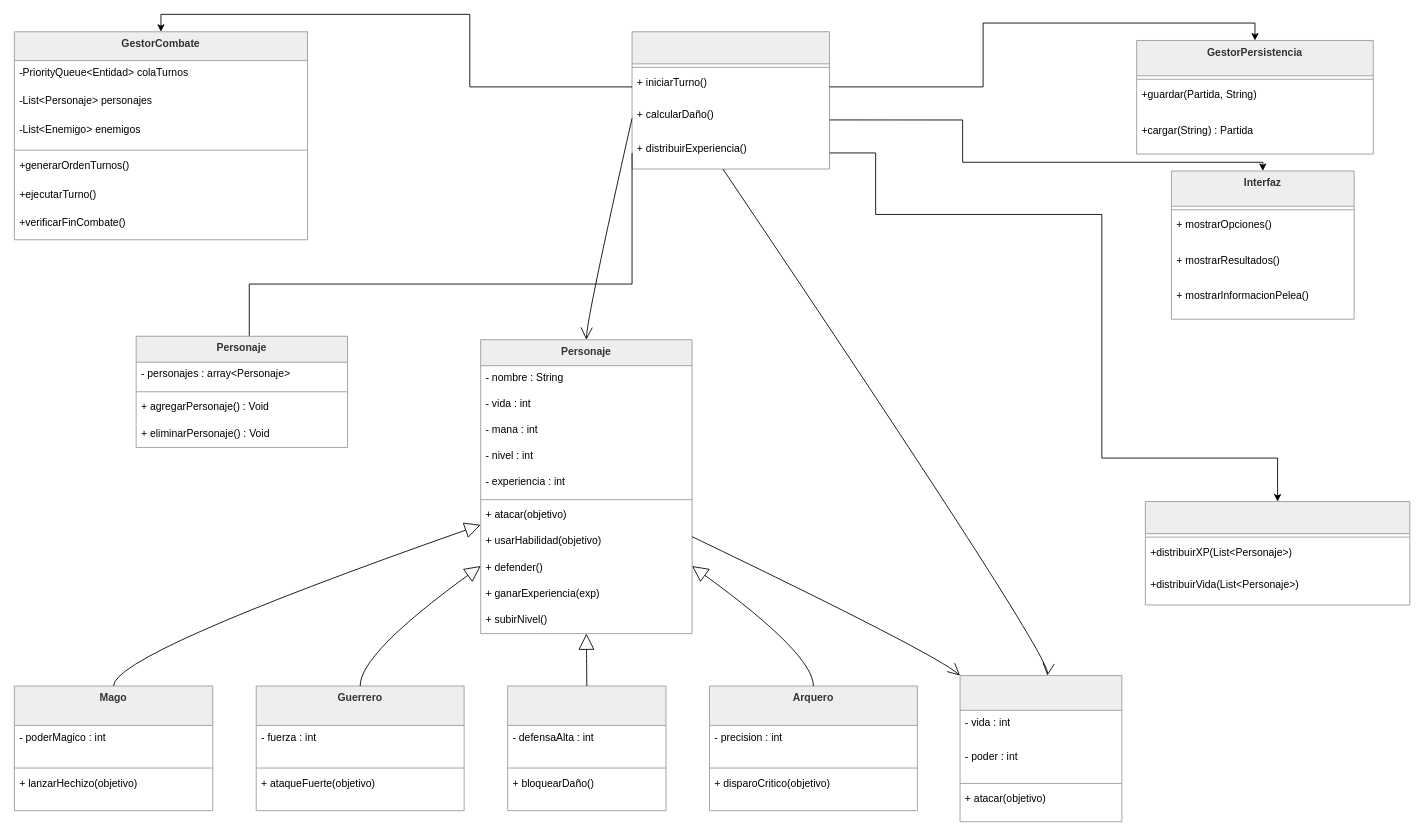
Image size: 1424x836. Some labels were removed from this diagram. Here are the shapes that lost their labels. From the top down, the box of each, then its label:
(631, 31, 830, 169): Sistema
(1144, 501, 1410, 605): GestorRecompensas
(507, 685, 666, 811): Tanque
(959, 675, 1122, 822): Enemigo
